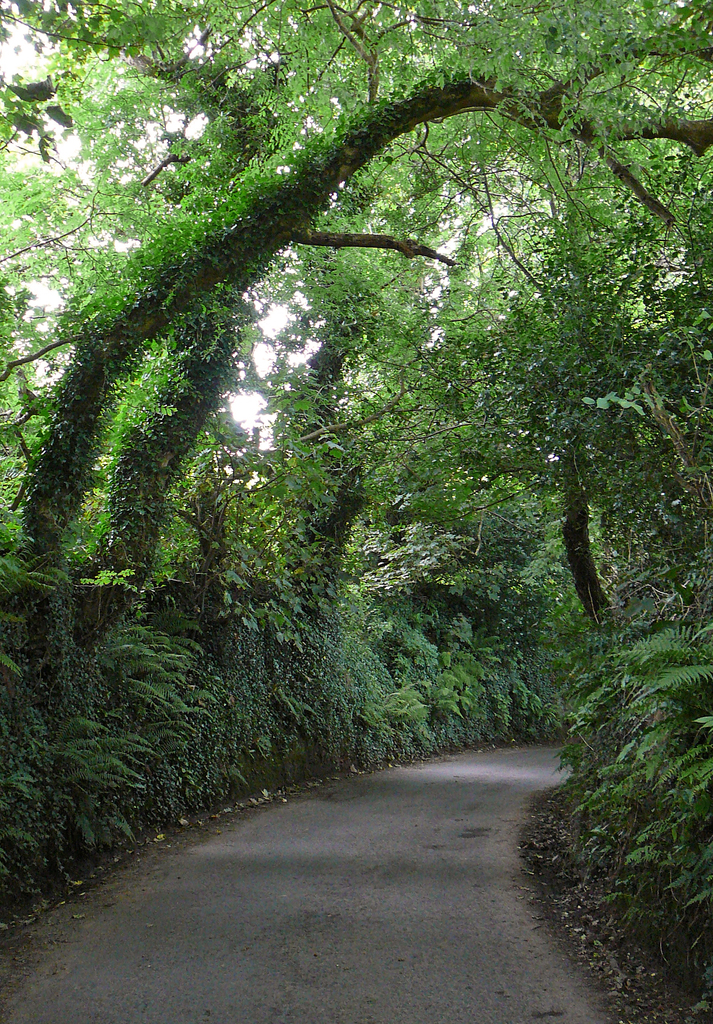Tree: (0, 0, 712, 861)
